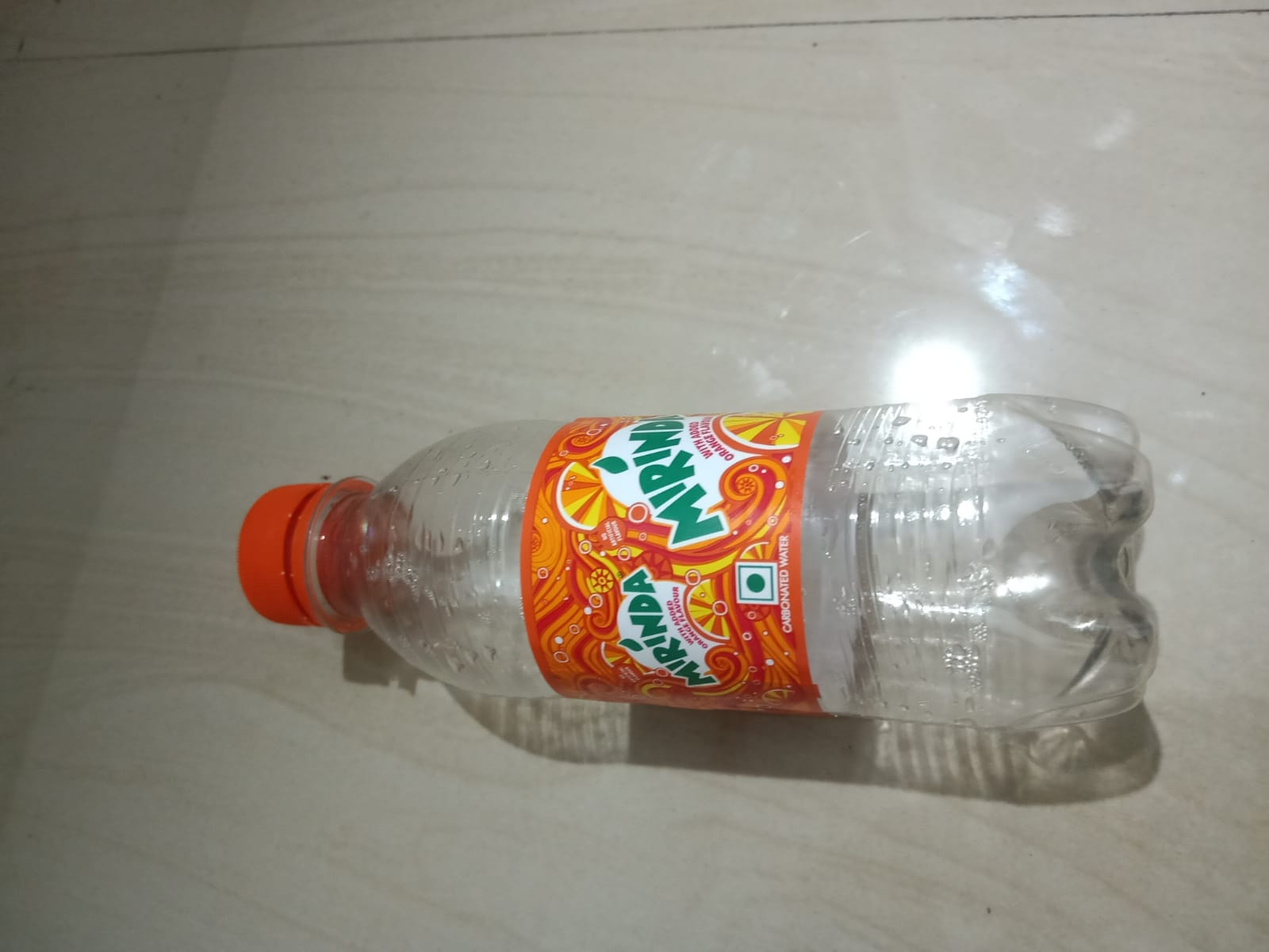plastic: (157, 361, 1269, 806)
